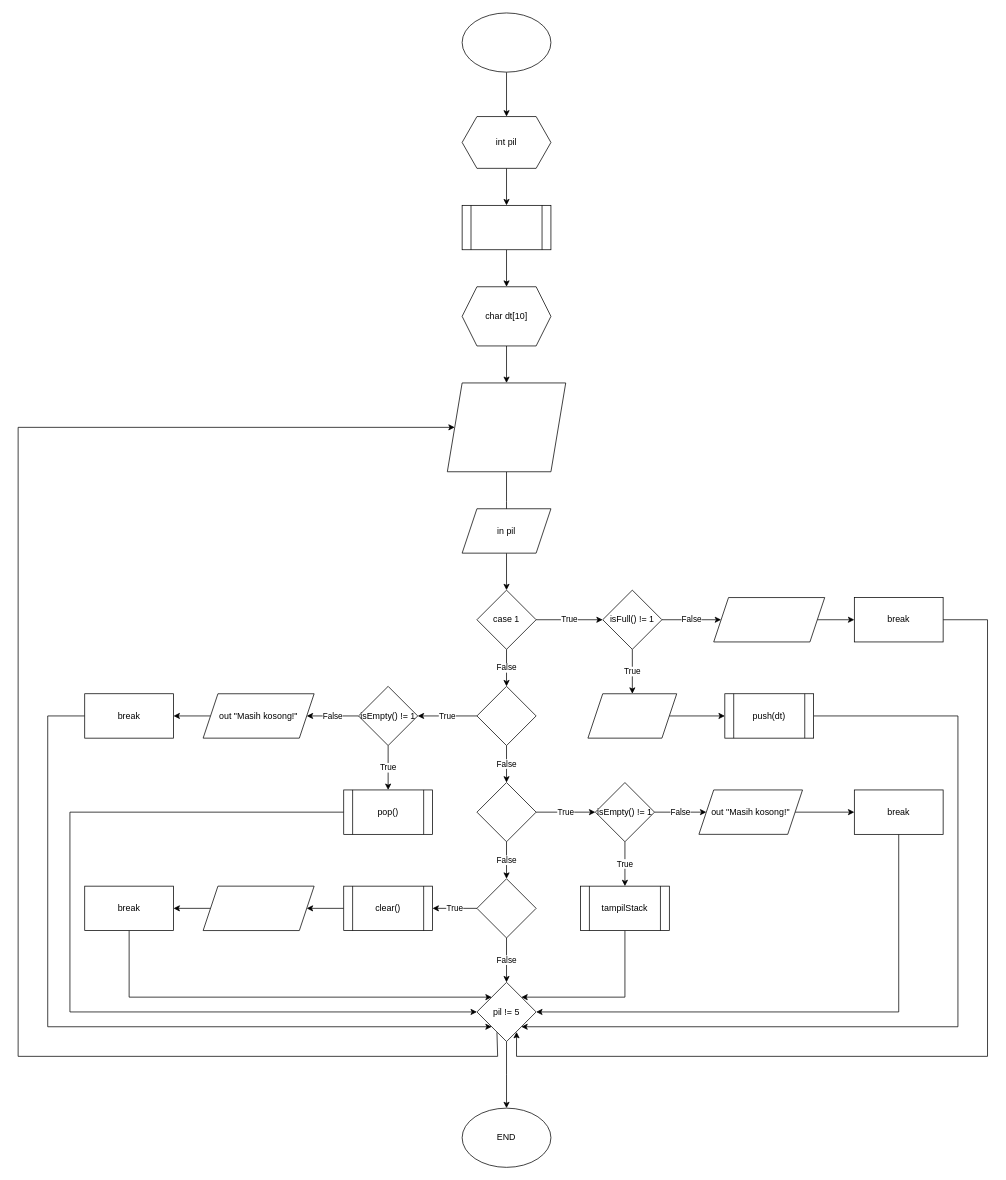
Some shapes in this 1006 by 1180 pixel diagram are drawn without their labels. Here are the shapes that lost their labels. From the top down, the centre of each, then its label:
[506,42]: START
[506,227]: inisialisasi()
[506,427]: out 1. push 2. pop 3. print 4. clear 5. exit Pilihan :
[769,619]: out "Sudah penuh!"
[506,716]: case 2
[632,715]: in dt
[506,812]: case 3
[258,908]: out "Sudah kosong"
[506,908]: case 4
